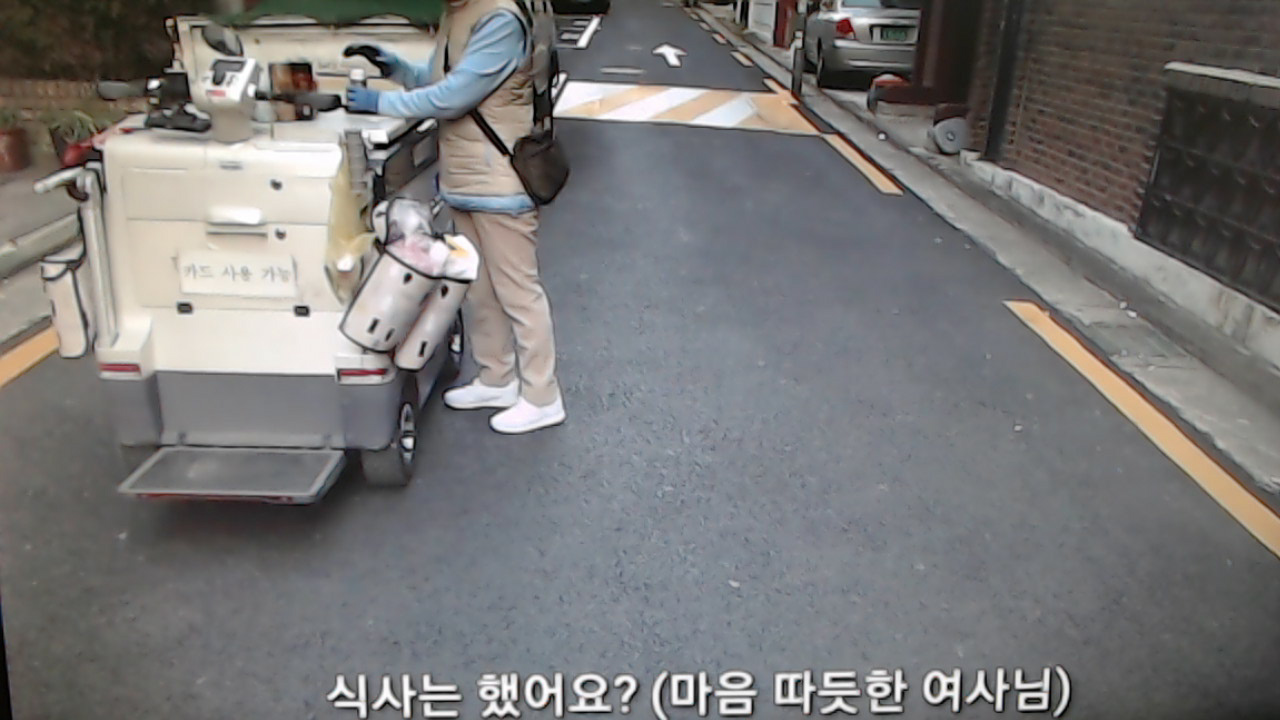Yakurut: (342, 5, 591, 447)
